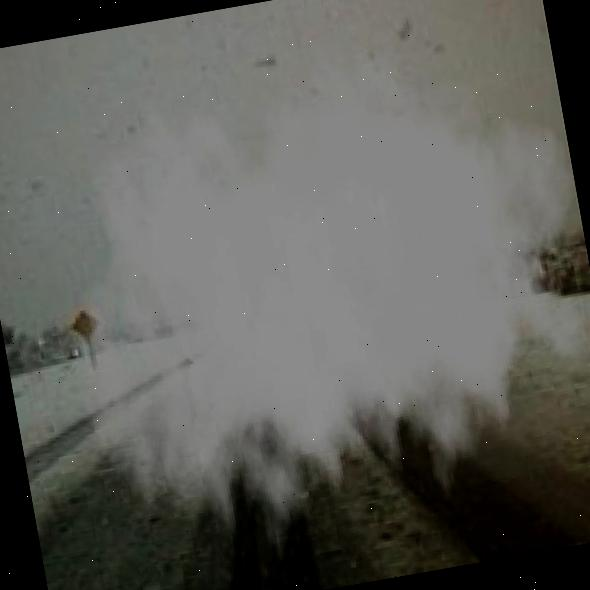smoke: (24, 0, 590, 590)
